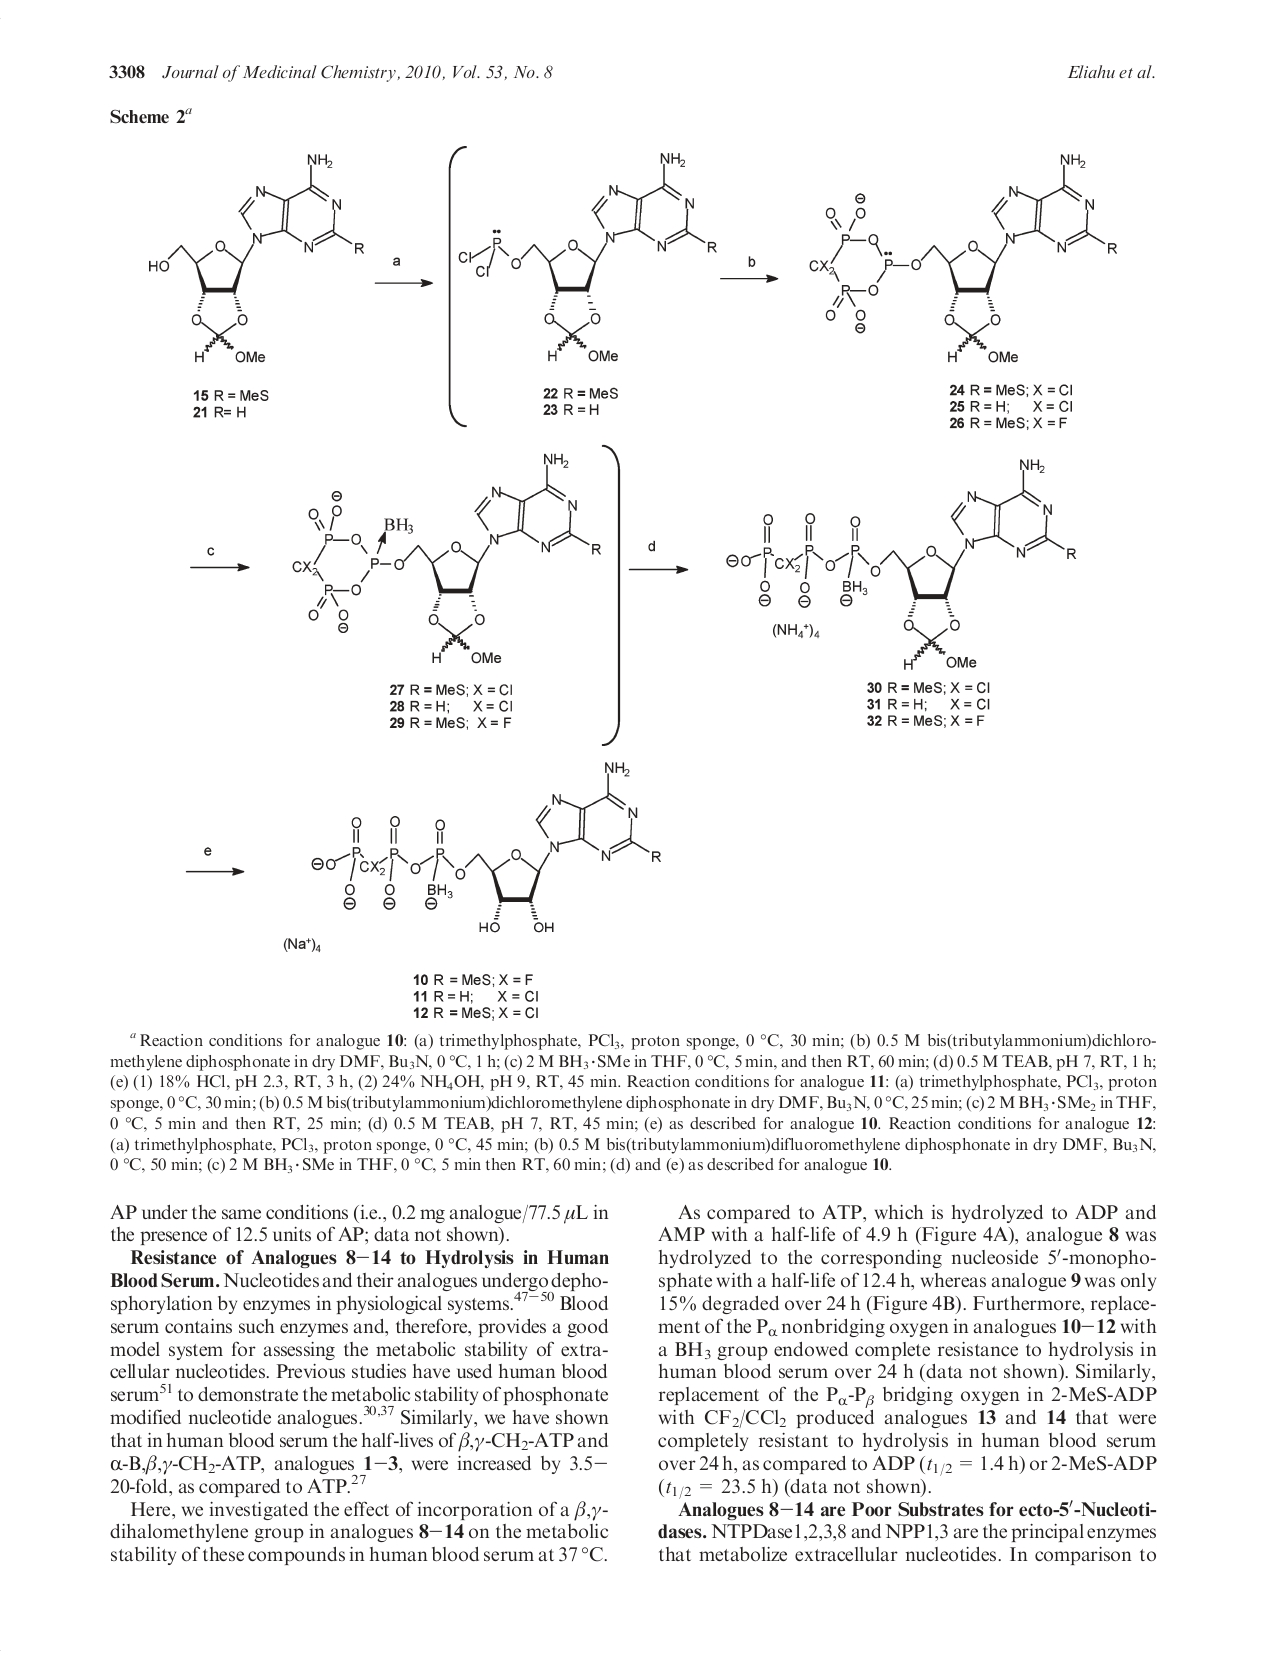exist_molecular: (723, 451, 1082, 670), (287, 446, 604, 670), (805, 146, 1122, 364), (309, 753, 668, 943), (451, 146, 727, 364), (146, 152, 371, 370)
